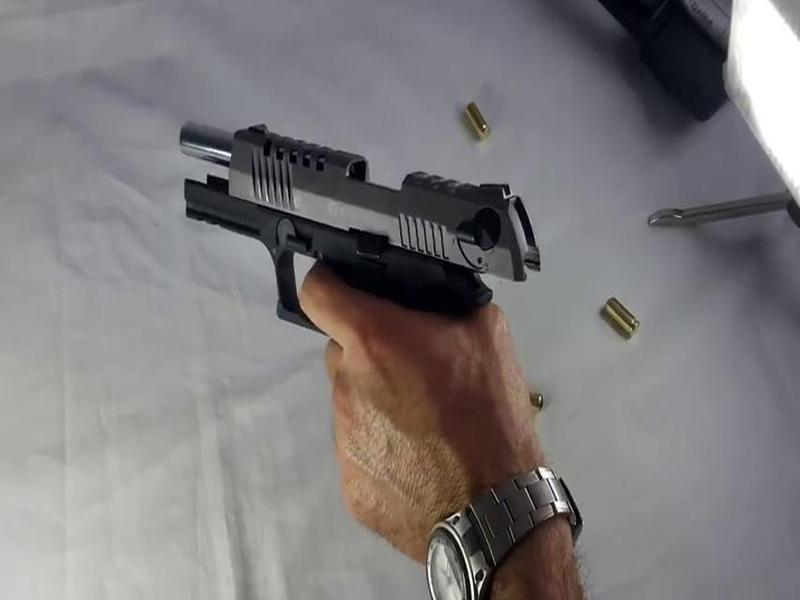Pistola: (155, 95, 566, 399)
